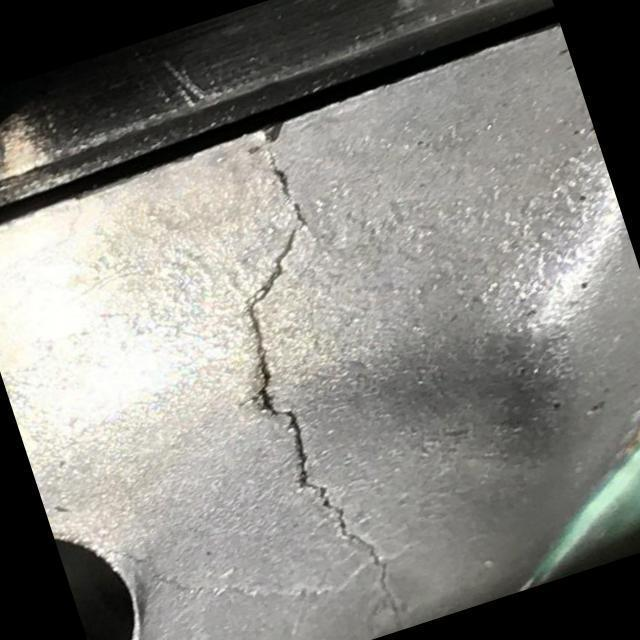defect: (240, 133, 409, 625)
